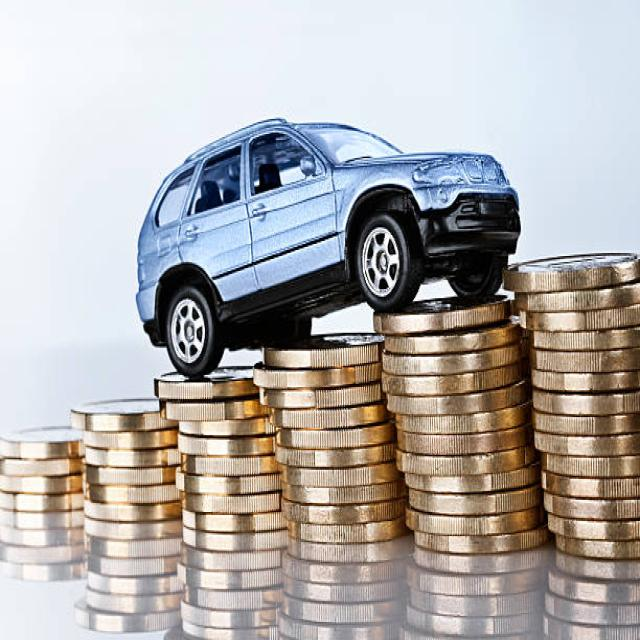Car: (134, 116, 521, 378)
